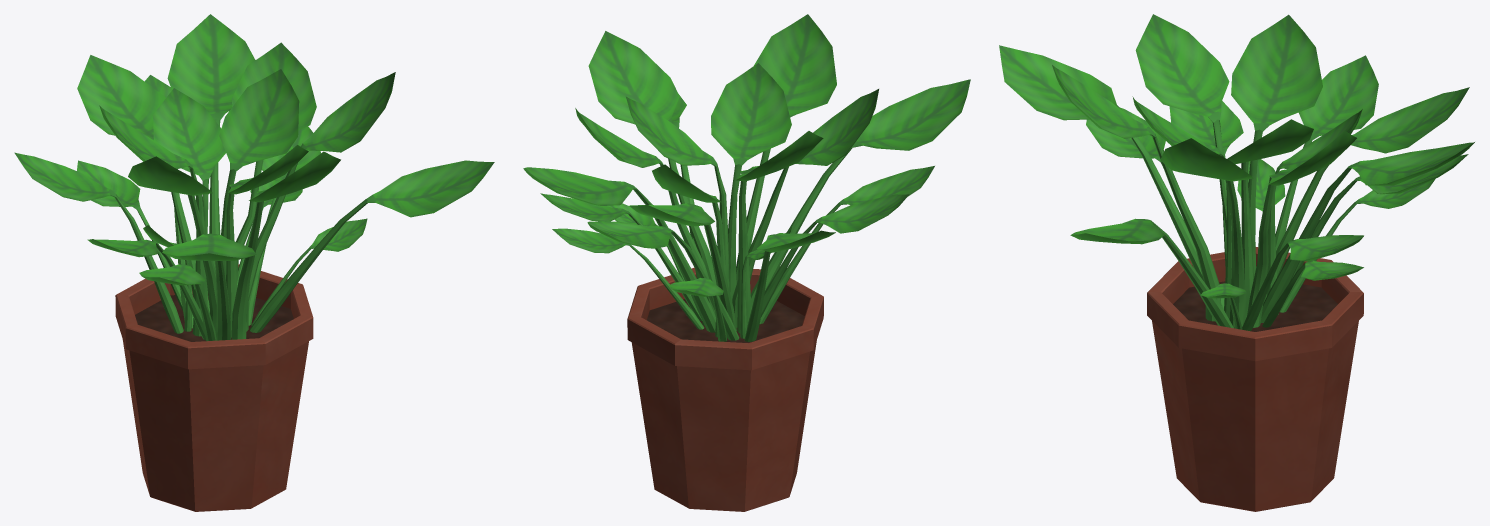
Rendered from Spatifilum.fbx.
3 renders of one model, left to right at view 1: azimuth 30°, elevation 25°; view 2: azimuth 150°, elevation 25°; view 3: azimuth 270°, elevation 25°, orthographic. The views are drawn at different scales.
Visible parts, largest first — view 1: Cylinder.022, Cylinder.002; view 2: Cylinder.022, Cylinder.002; view 3: Cylinder.022, Cylinder.002.
Part boxes in pixels (x1,y1,x2,y2): Cylinder.022: (14,14,494,341); Cylinder.002: (115,264,313,511); Cylinder.022: (523,14,970,341); Cylinder.002: (627,267,823,511); Cylinder.022: (999,14,1474,330); Cylinder.002: (1147,247,1363,511).
Bounding box in the file's own units: 81.66 × 87.85 × 90.02.
Materials: 2 (2 with a texture image).
